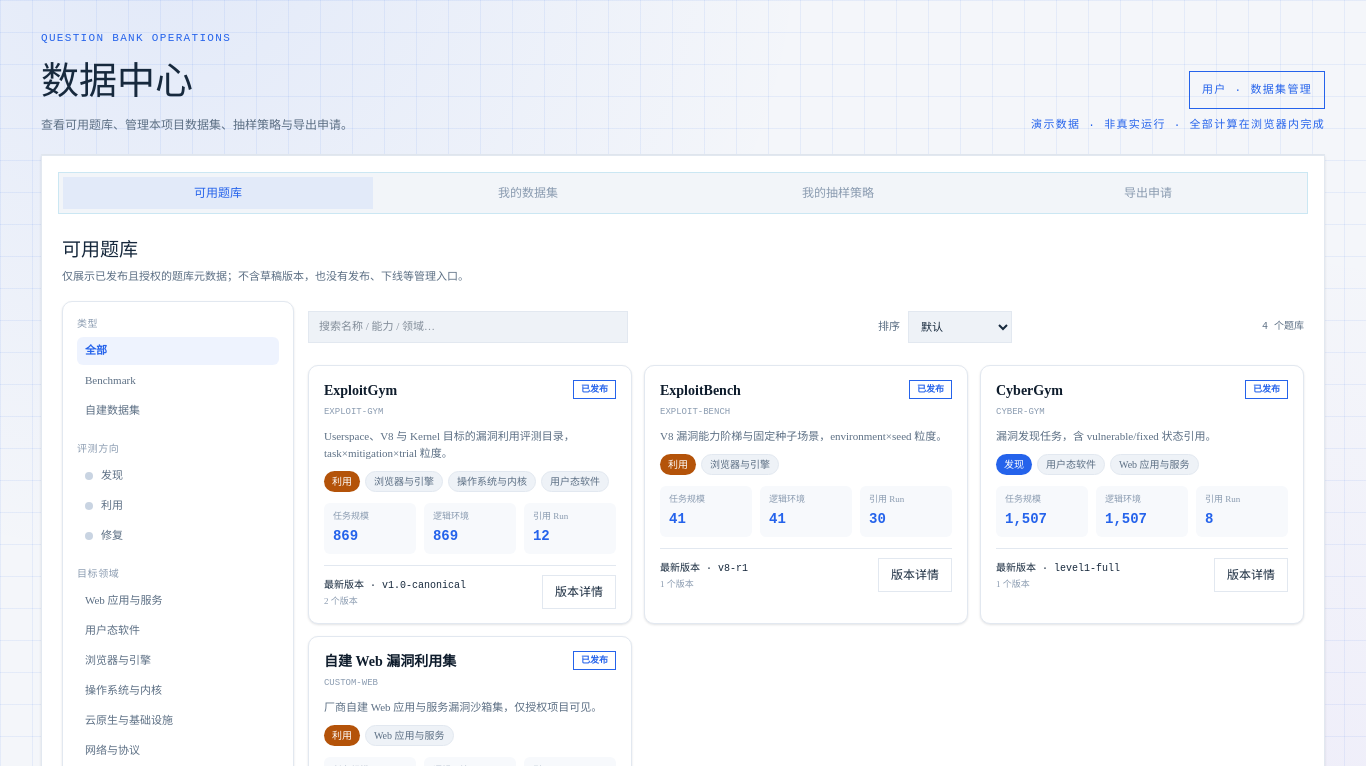
it: DataCenter question bank › keeps platform plans out of the external sampling view
Click the tab "我的抽样策略".
click(838, 192)  # box left=683, top=176, right=993, bottom=208
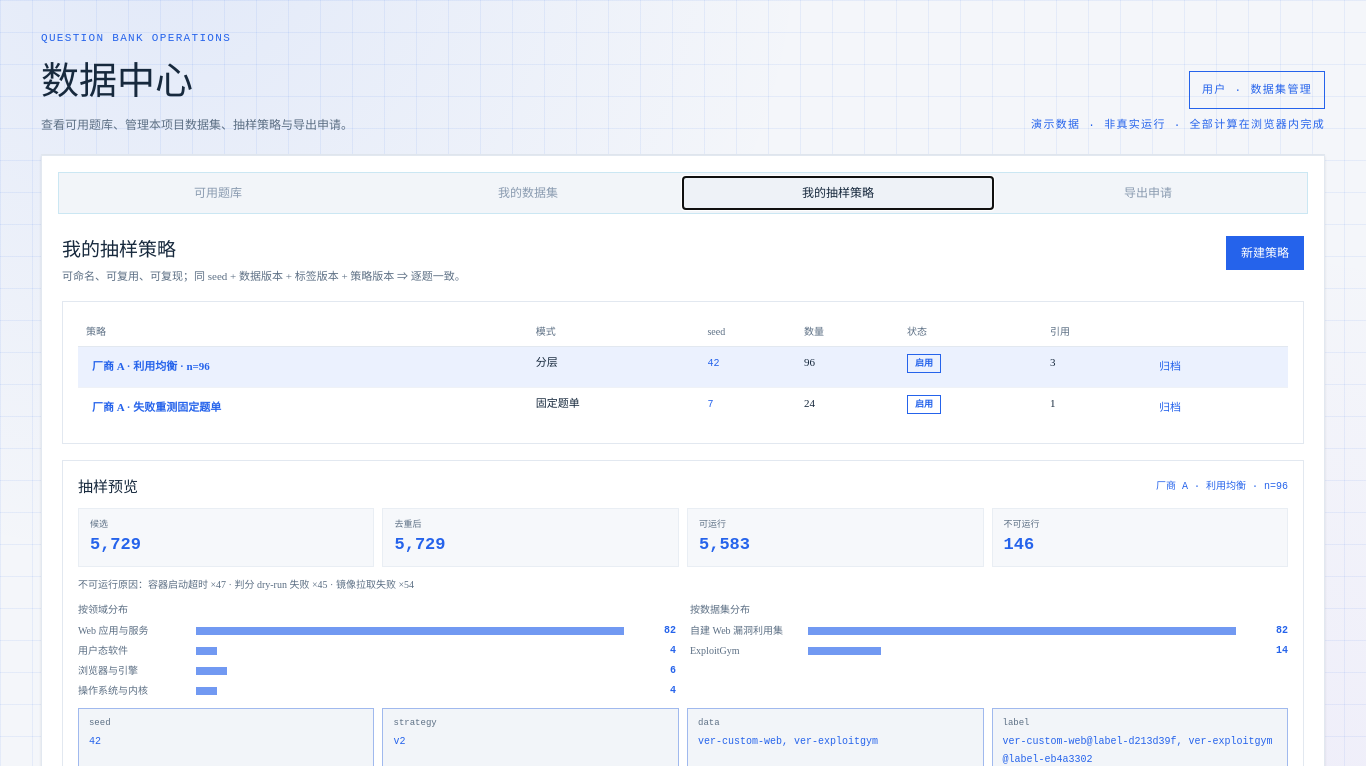
Check: the text "厂商 A · 利用均衡 · n=96" in the row of "分层" is shown, box left=92, top=360, right=210, bottom=372
Check: the button "新建策略" is shown, box left=1226, top=236, right=1304, bottom=270
